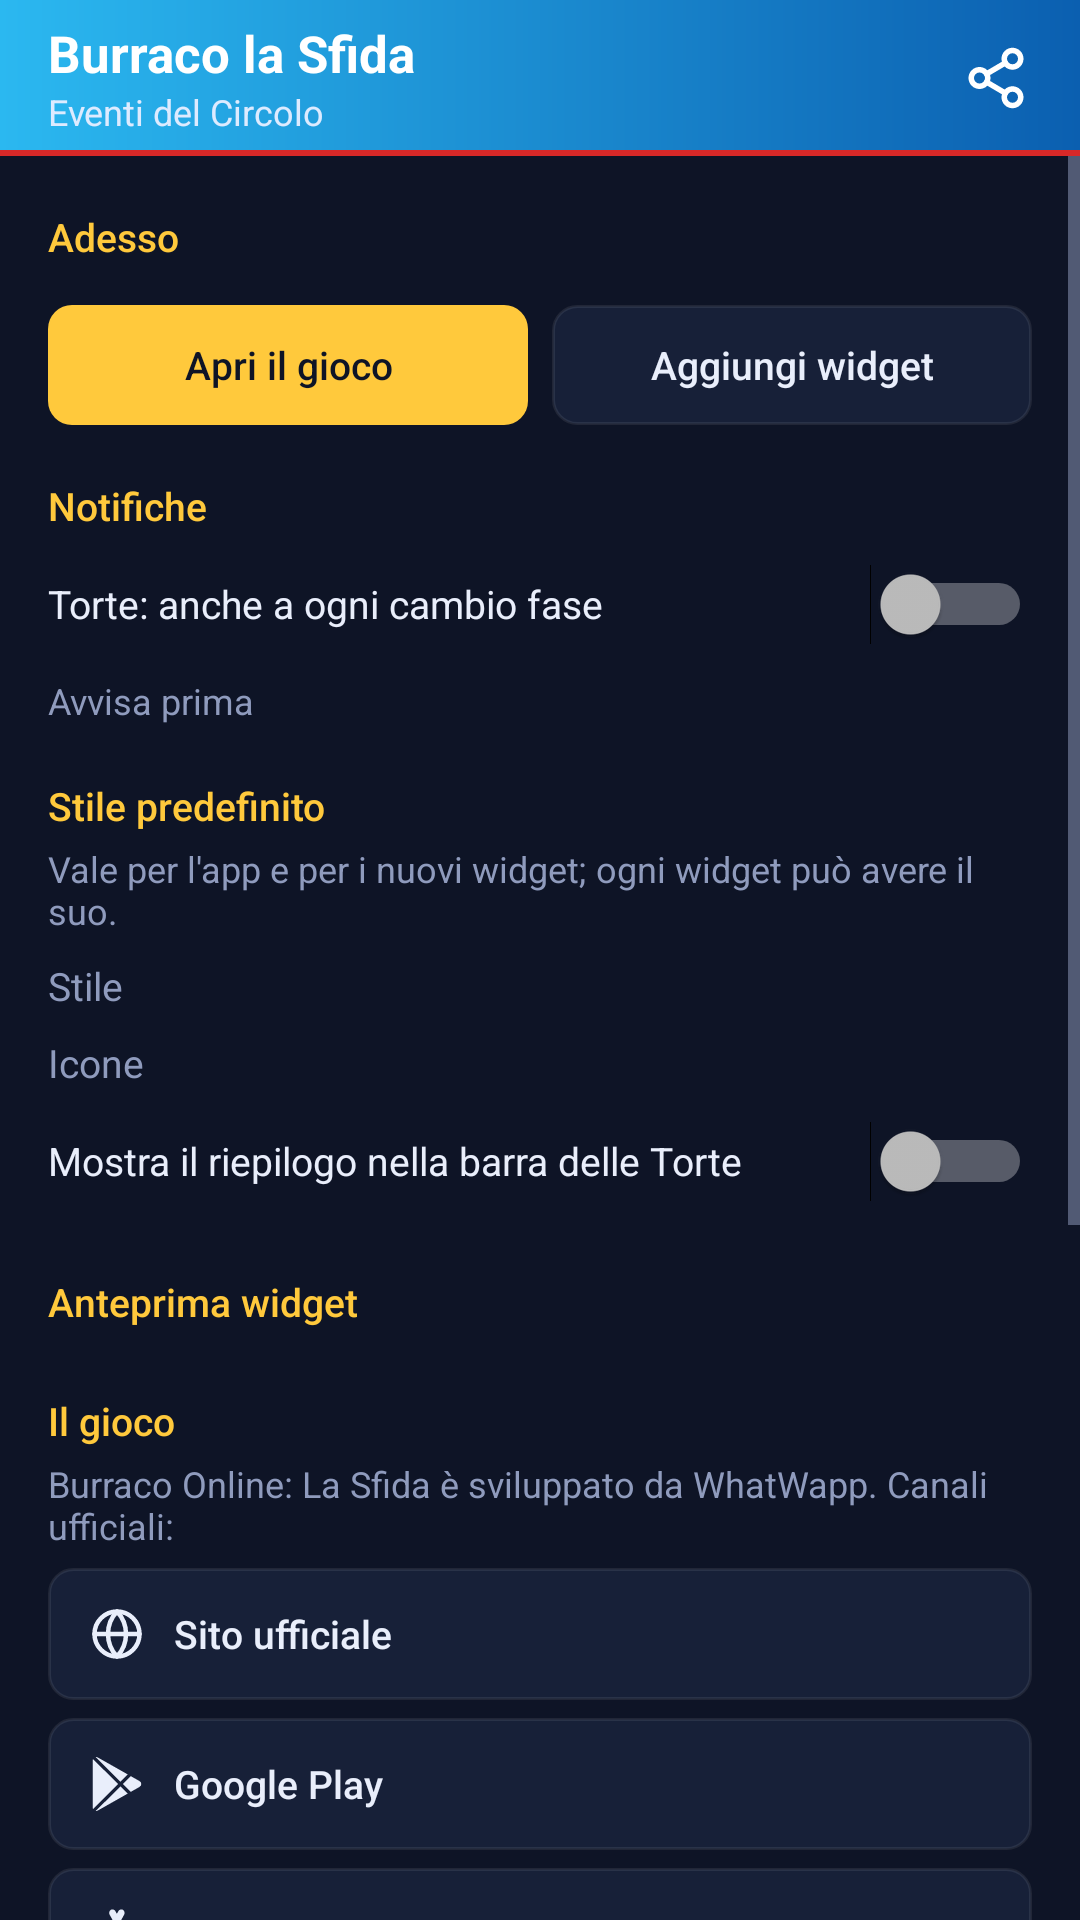

Screen size 1080w x 1920h. Icon name, then its center in pixels as point (x, y):
Condividi: point (996, 78)
